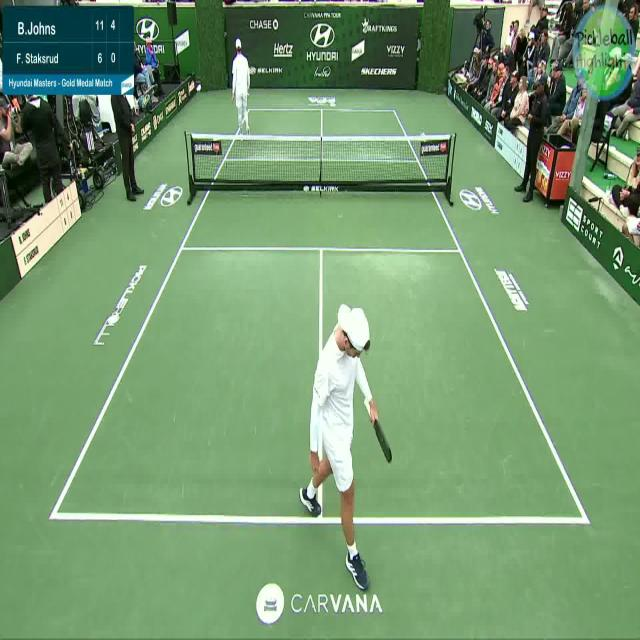Court: (55, 108, 588, 520)
